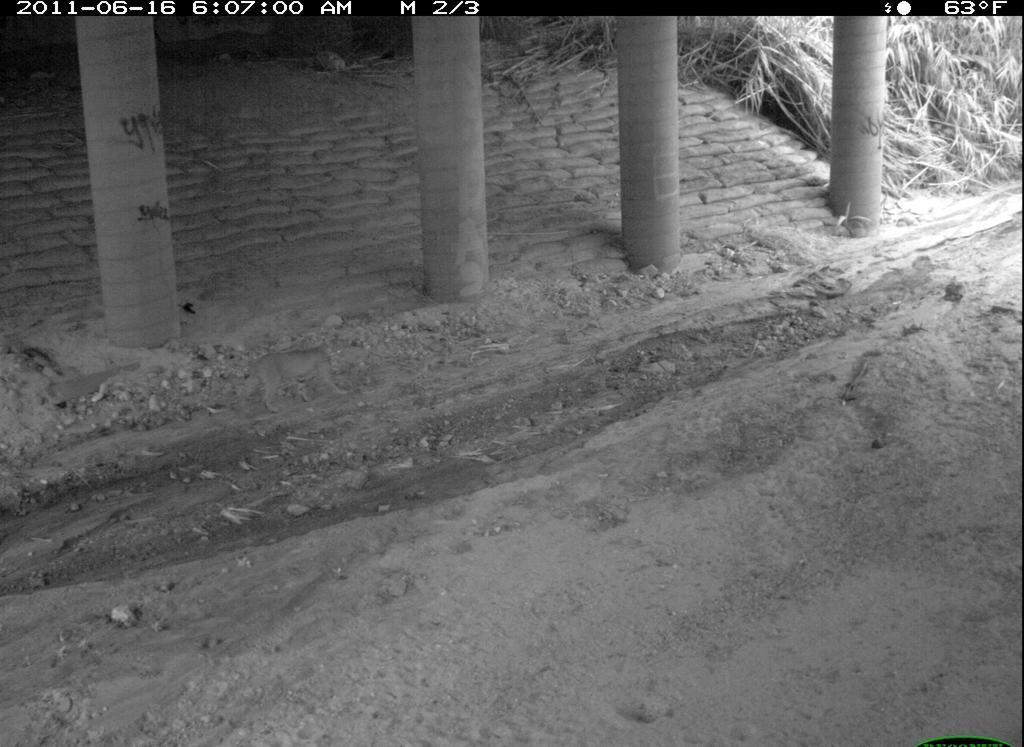bobcat: (465, 668, 706, 747)
